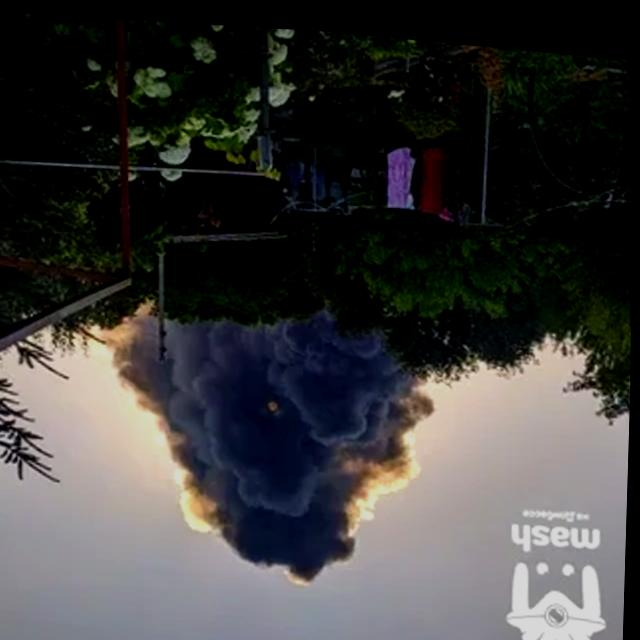Smoke: (113, 292, 442, 591)
